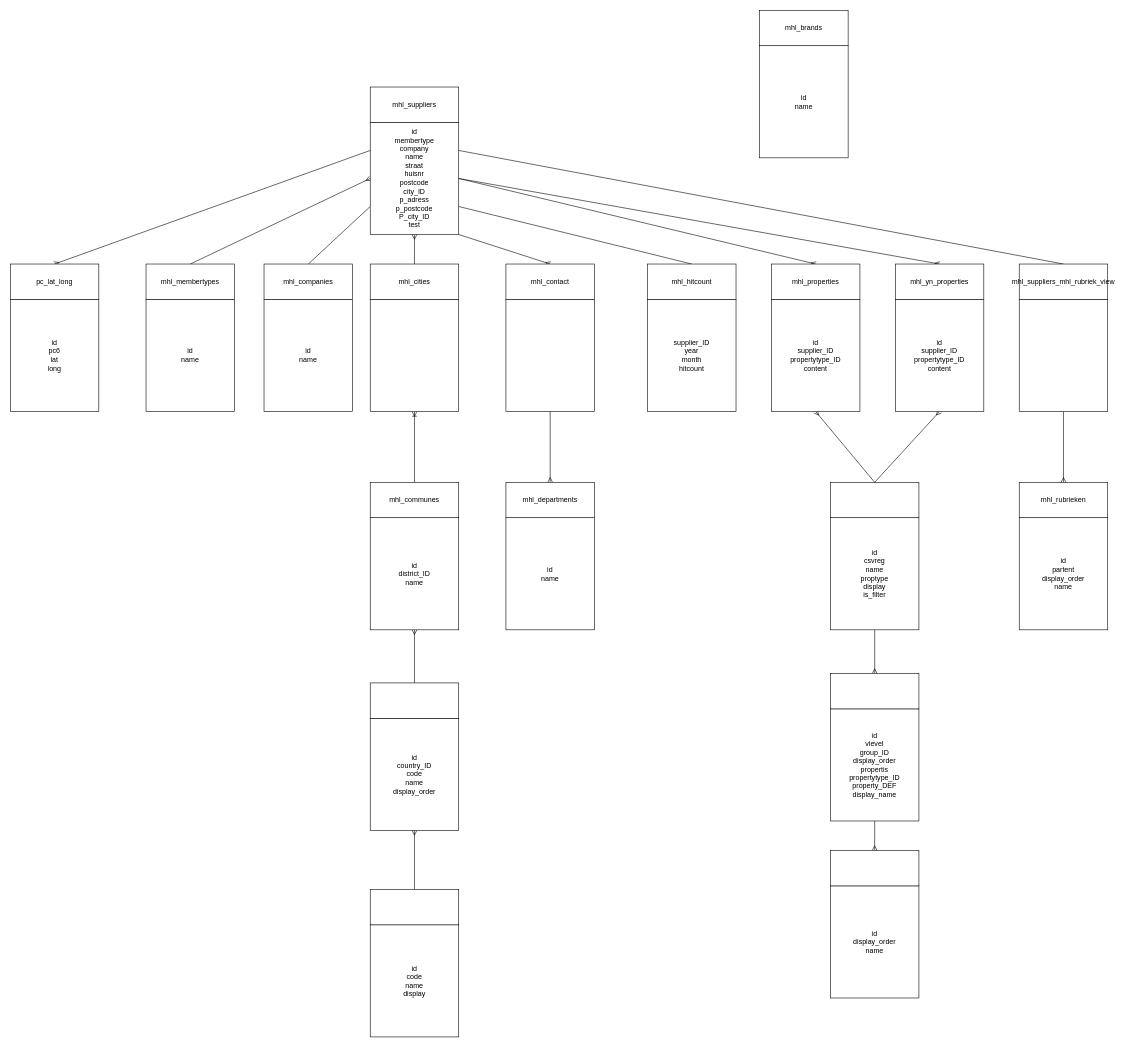
Some shapes in this 1125 by 1047 pixel diagram are drawn without their labels. The centre of each missing label's shape, as x and y in pixels:
id commune_ID name: the point at 414,355
id mhl_suppliers_ID mhl_rubriek_view_ID: the point at 1063,355
id supplier_id department contacttype name email tail: the point at 549,355
mhl_countries: the point at 414,907
mhl_detaildefs: the point at 874,691
mhl_detailgroups: the point at 874,868
mhl_districts: the point at 414,700
mhl_propertytypes: the point at 874,500
